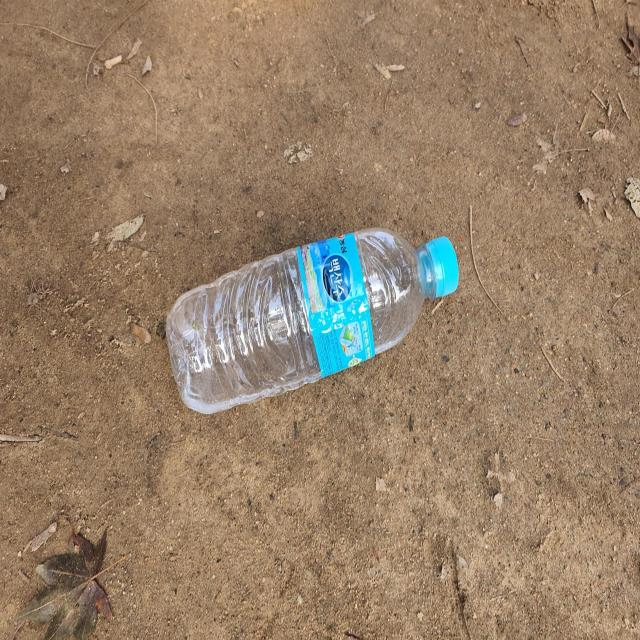plastic: (166, 228, 459, 414)
